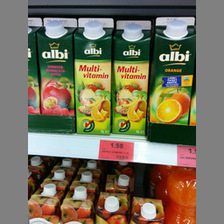juice: (150, 14, 196, 124), (73, 15, 114, 136), (113, 18, 152, 136), (36, 17, 77, 116)
